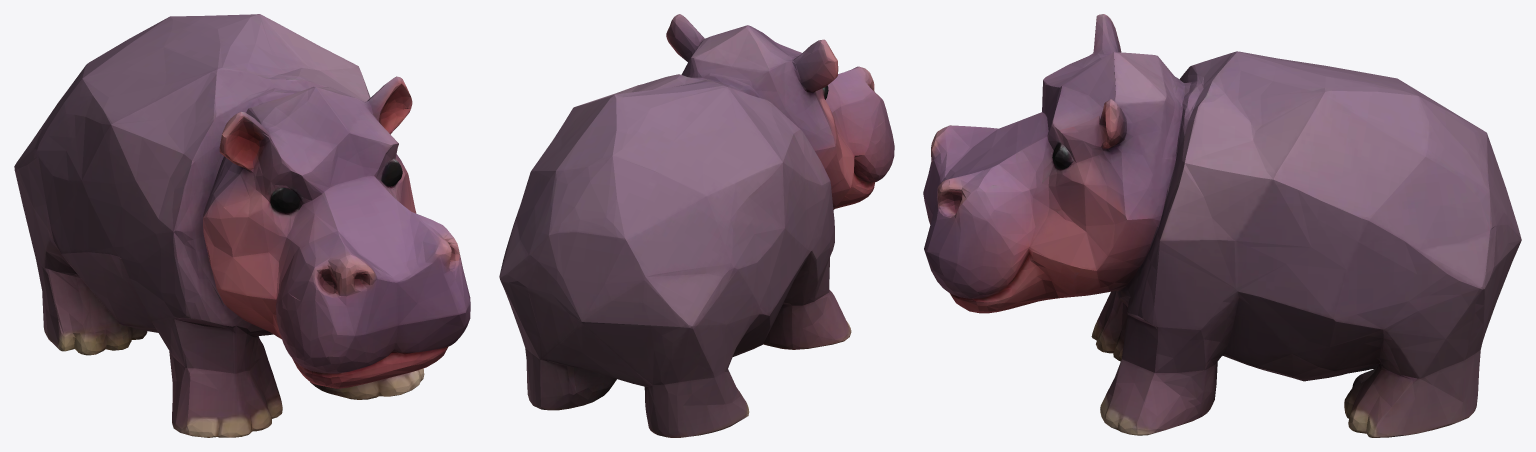
Rendered from hippo.glb.
3 renders of one model, left to right at view 1: azimuth 30°, elevation 25°; view 2: azimuth 150°, elevation 25°; view 3: azimuth 270°, elevation 25°, orthographic. The views are drawn at different scales.
Visible parts, largest first — view 1: world; view 2: world; view 3: world.
Part boxes in pixels (x1,y1,x2,y2): world: [14, 14, 470, 437]; world: [499, 14, 894, 437]; world: [923, 14, 1521, 437].
Bounding box in the file's own units: 0.5324 × 0.6097 × 0.999.
Materials: 1 (1 with a texture image).
